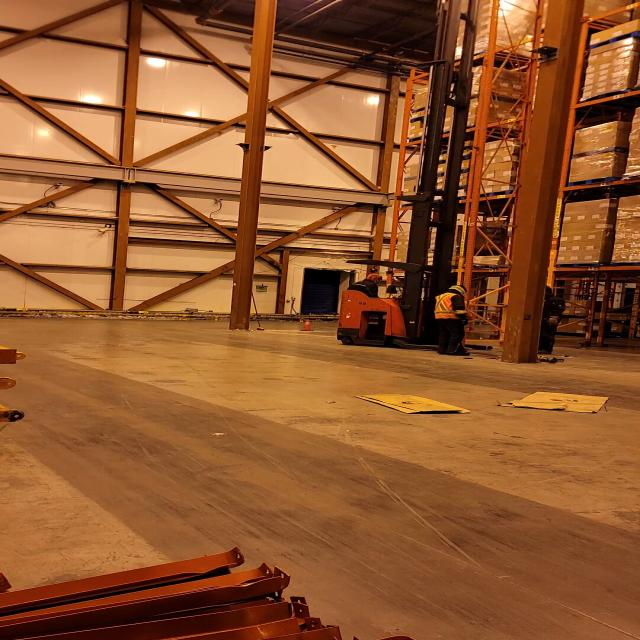forklift: (333, 191, 496, 352)
human: (416, 280, 483, 360), (526, 282, 570, 358), (339, 269, 392, 303)
objectofinterest: (456, 7, 529, 356), (352, 392, 477, 417), (494, 388, 614, 414)
